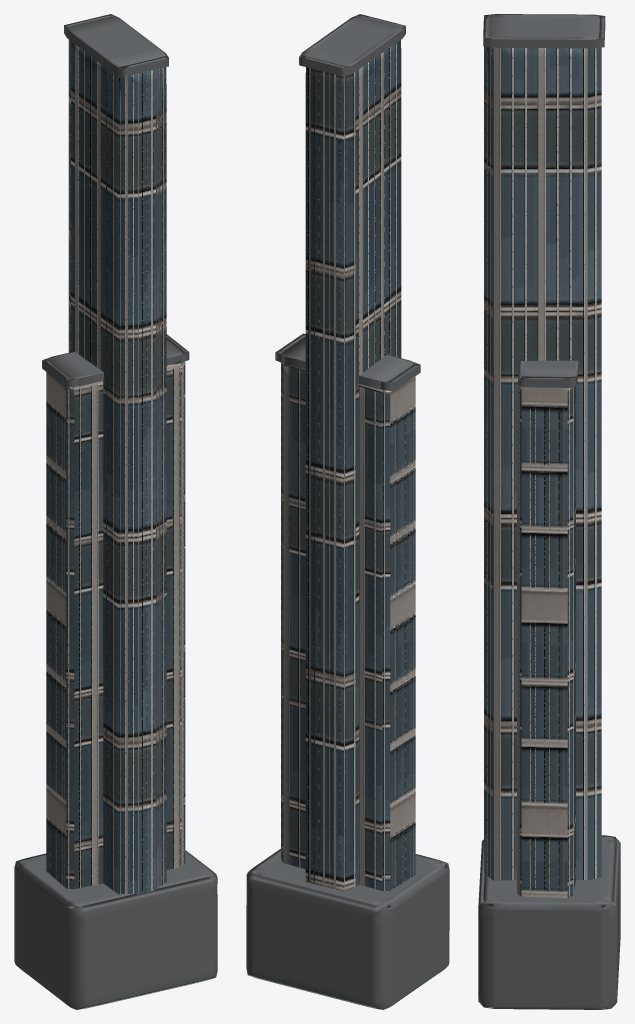
The model's file is skyscraper 3FBX.fbx.
The picture shows the model from 3 angles, left to right: view 1: azimuth 30°, elevation 25°; view 2: azimuth 150°, elevation 25°; view 3: azimuth 270°, elevation 25°; orthographic projection. The views are drawn at different scales.
Parts seen in each view (by area): view 1: Box.003; view 2: Box.003; view 3: Box.003.
Boxes of the visible parts, left/top/right/bottom form: Box.003: left=14, top=14, right=217, bottom=1009; Box.003: left=246, top=14, right=449, bottom=1009; Box.003: left=478, top=14, right=620, bottom=1009.
Bounding box in the file's own units: 21.54 × 128 × 17.38.
